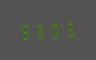five: (63, 19, 77, 38)
nine: (18, 21, 32, 40)
three: (33, 20, 47, 40)
zero: (48, 19, 62, 39)
